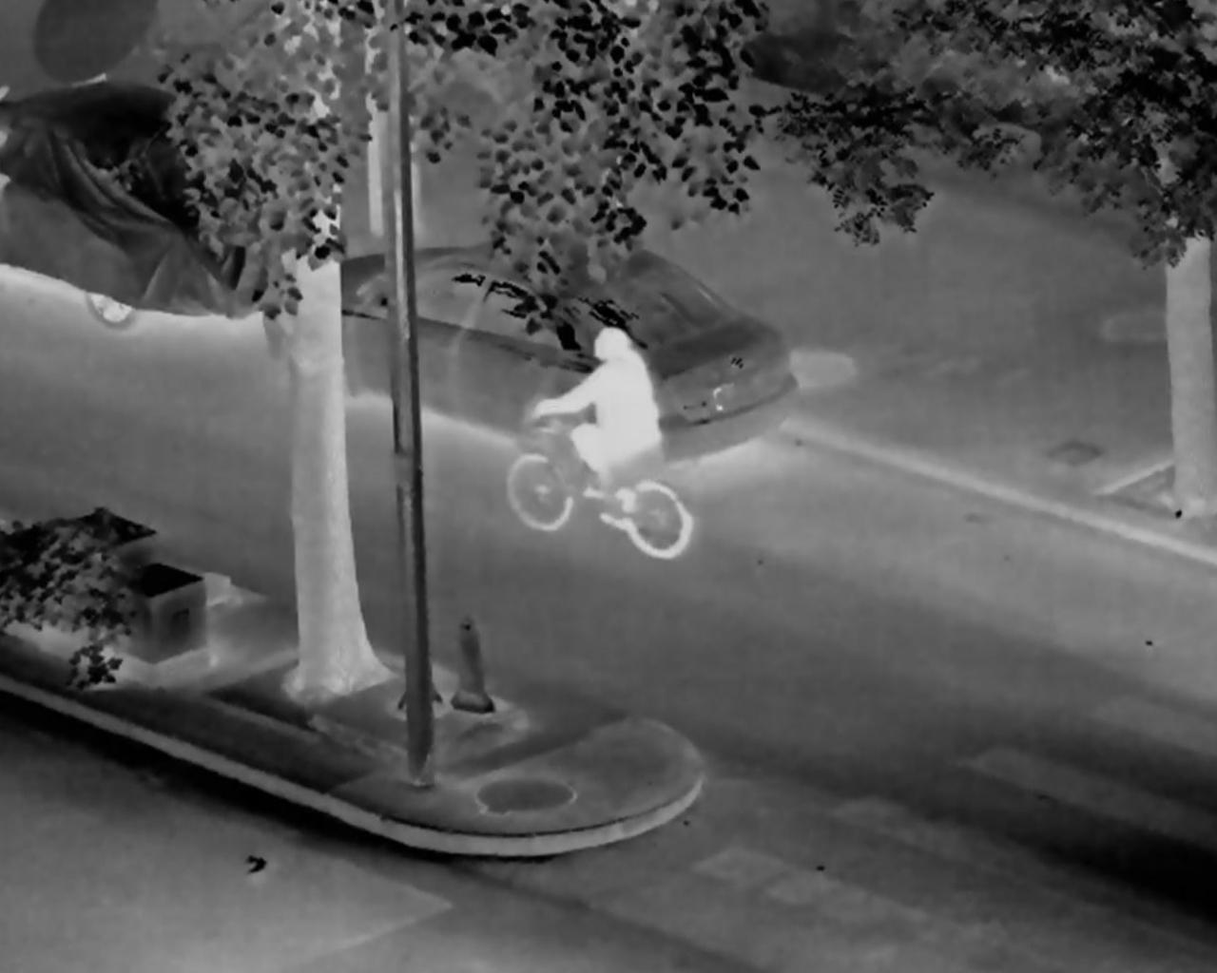person: (529, 326, 665, 511)
